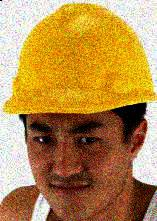helmet: (3, 3, 156, 220)
